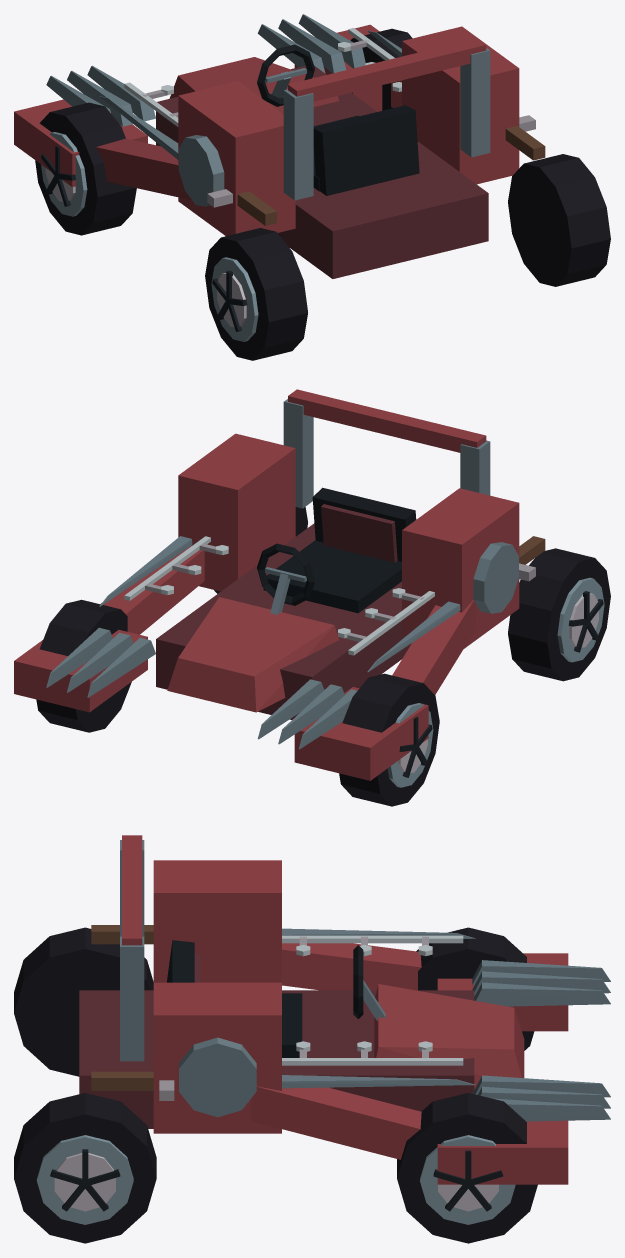
Rendered from kart.glb.
3 renders of one model, top to bottom at view 1: azimuth 30°, elevation 25°; view 2: azimuth 150°, elevation 25°; view 3: azimuth 270°, elevation 25°, orthographic. The views are drawn at different scales.
Visible parts, largest first — view 1: identity-mech-mech-articulated-limbs-and-open-harness, wheel-rear-right, wheel-rear-left, identity-mech-driver-cockpit, wheel-front-left, identity-mech-motif-claws, identity-mech-motif-swords, identity-mech-motif-circuit, wheel-front-right; view 2: identity-mech-mech-articulated-limbs-and-open-harness, identity-mech-driver-cockpit, wheel-rear-left, wheel-front-left, identity-mech-motif-claws, wheel-front-right, identity-mech-motif-circuit, identity-mech-motif-swords; view 3: identity-mech-mech-articulated-limbs-and-open-harness, wheel-rear-right, wheel-front-right, identity-mech-motif-claws, wheel-rear-left, identity-mech-motif-swords, identity-mech-motif-circuit, wheel-front-left, identity-mech-driver-cockpit.
Part boxes in pixels (left/top/right/bottom): identity-mech-mech-articulated-limbs-and-open-harness: left=14, top=24, right=519, bottom=278; wheel-rear-right: left=508, top=154, right=610, bottom=286; wheel-rear-left: left=205, top=228, right=307, bottom=360; identity-mech-driver-cockpit: left=257, top=44, right=419, bottom=195; wheel-front-left: left=35, top=102, right=136, bottom=235; identity-mech-motif-claws: left=46, top=14, right=365, bottom=126; identity-mech-motif-swords: left=99, top=31, right=545, bottom=225; identity-mech-motif-circuit: left=124, top=28, right=401, bottom=126; wheel-front-right: left=350, top=28, right=412, bottom=110; identity-mech-mech-articulated-limbs-and-open-harness: left=14, top=389, right=519, bottom=780; identity-mech-driver-cockpit: left=257, top=487, right=416, bottom=614; wheel-rear-left: left=508, top=548, right=610, bottom=681; wheel-front-left: left=339, top=673, right=439, bottom=806; identity-mech-motif-claws: left=46, top=627, right=357, bottom=749; wheel-front-right: left=36, top=599, right=131, bottom=732; identity-mech-motif-circuit: left=124, top=536, right=434, bottom=655; identity-mech-motif-swords: left=99, top=536, right=545, bottom=671; identity-mech-mech-articulated-limbs-and-open-harness: left=79, top=835, right=568, bottom=1184; wheel-rear-right: left=14, top=1093, right=156, bottom=1243; wheel-front-right: left=397, top=1093, right=537, bottom=1243; identity-mech-motif-claws: left=472, top=960, right=610, bottom=1121; wheel-rear-left: left=14, top=927, right=153, bottom=1076; identity-mech-motif-swords: left=91, top=925, right=475, bottom=1100; identity-mech-motif-circuit: left=282, top=935, right=463, bottom=1065; wheel-front-left: left=416, top=927, right=534, bottom=1050; identity-mech-driver-cockpit: left=166, top=940, right=385, bottom=1057.
Size of the model in its own units: 2.29 by 1.42 by 2.93.
